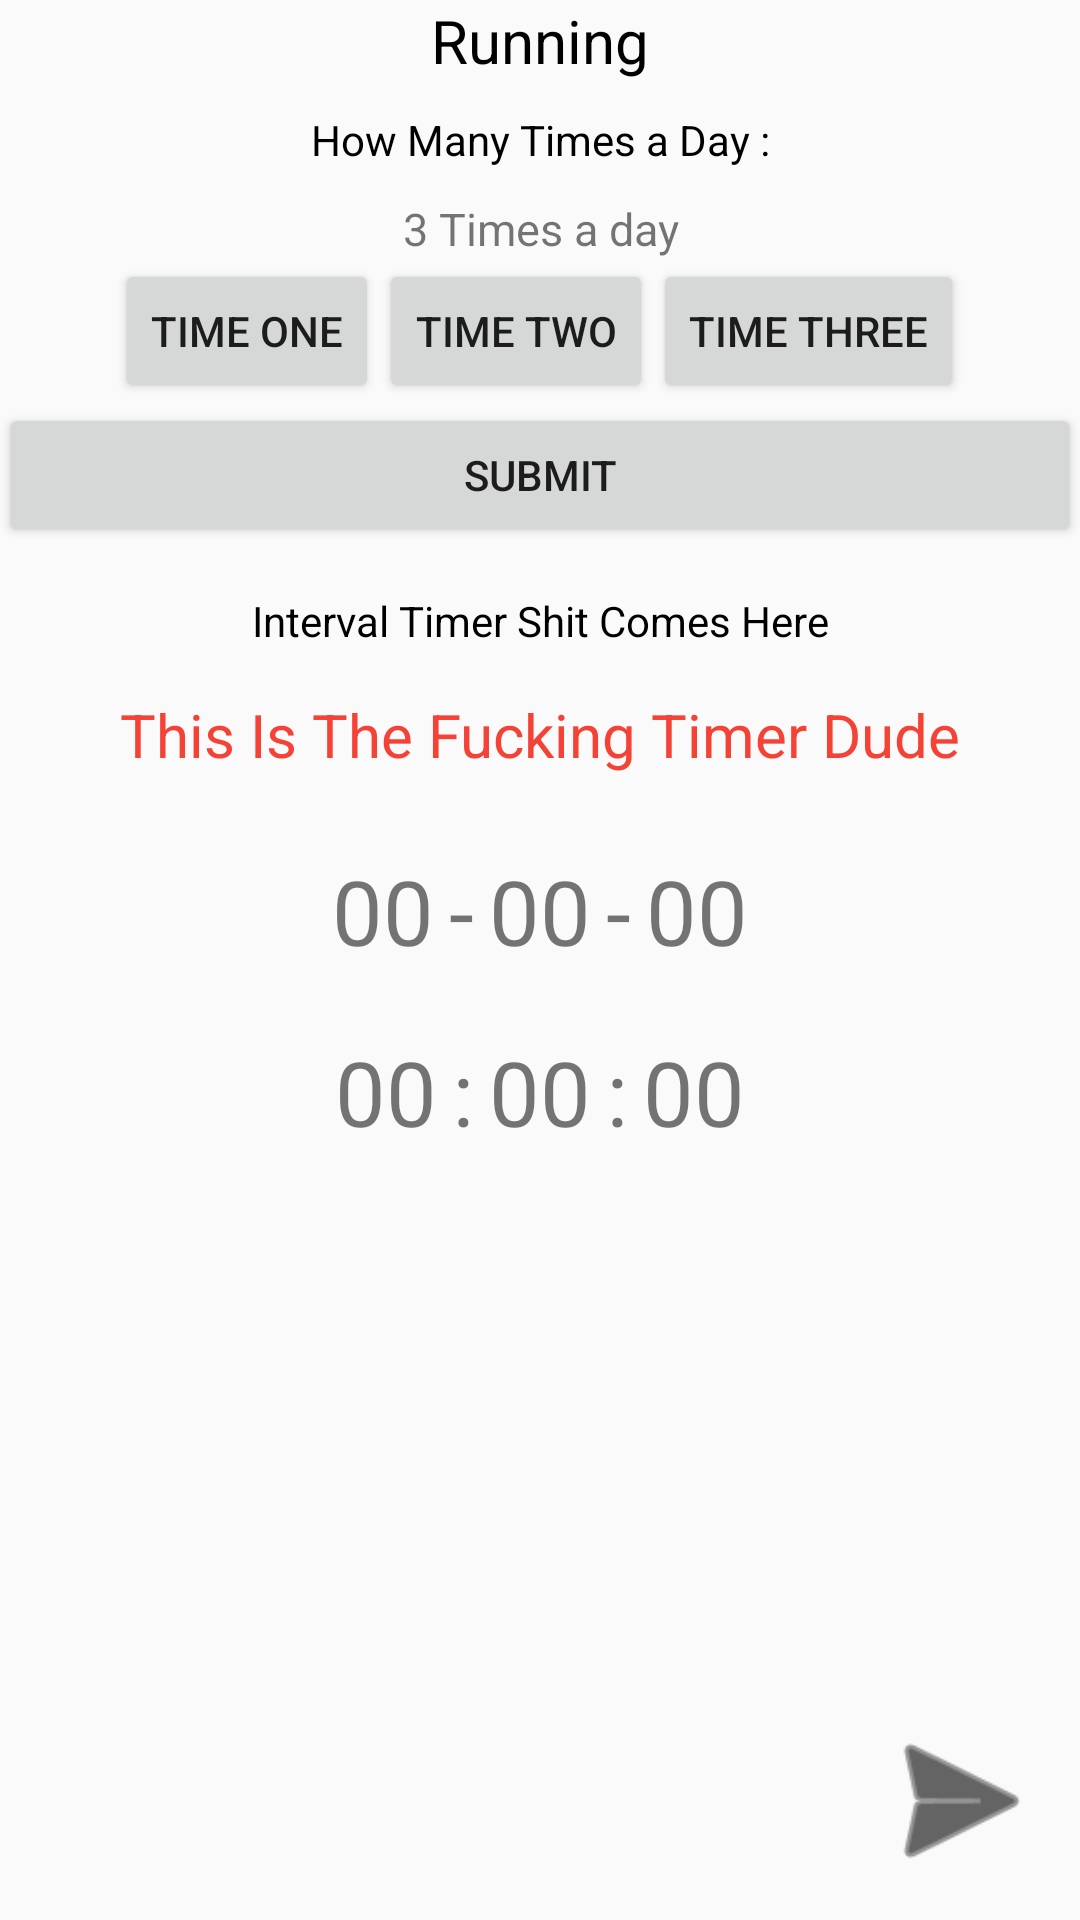

Screen size 1080px×1920px. Icon name, then its center in pixels as [x,y]:
send: [961,1801]
